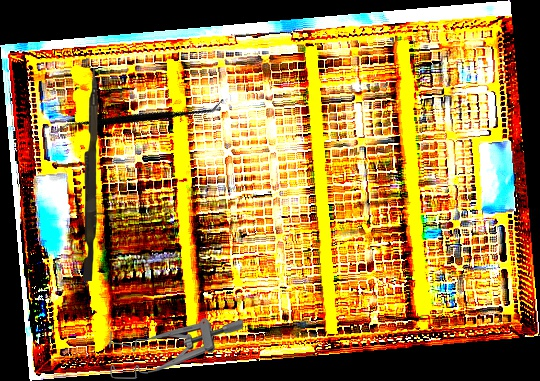Pusher: (83, 68, 98, 281)
Spatula Surgical: (51, 34, 226, 199)
Speculum: (108, 317, 244, 380)
